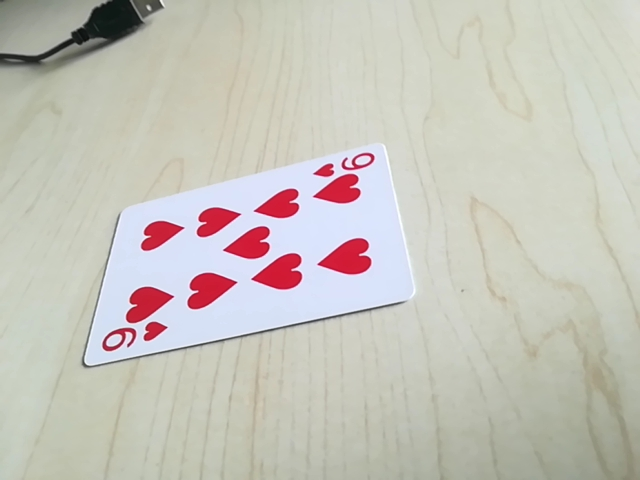hx 9: (96, 322, 171, 358), (314, 152, 381, 180)
